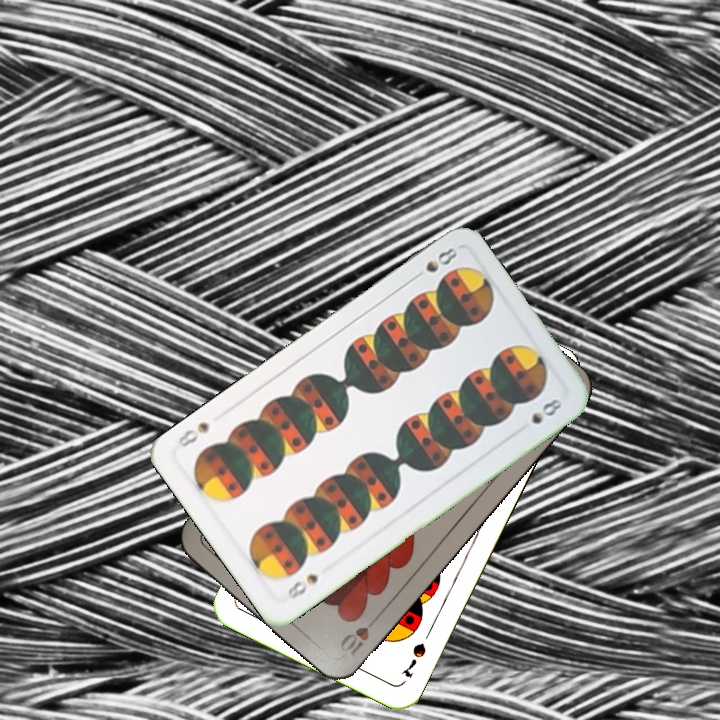H10: (335, 610, 384, 660)
S7: (398, 638, 429, 681)
S8: (408, 243, 461, 285), (281, 570, 321, 604)
